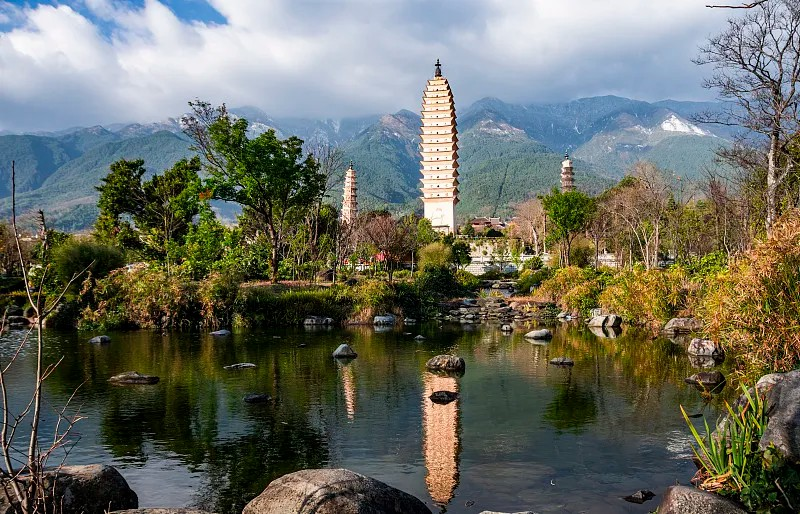ThreePagoda: (418, 59, 461, 234)
